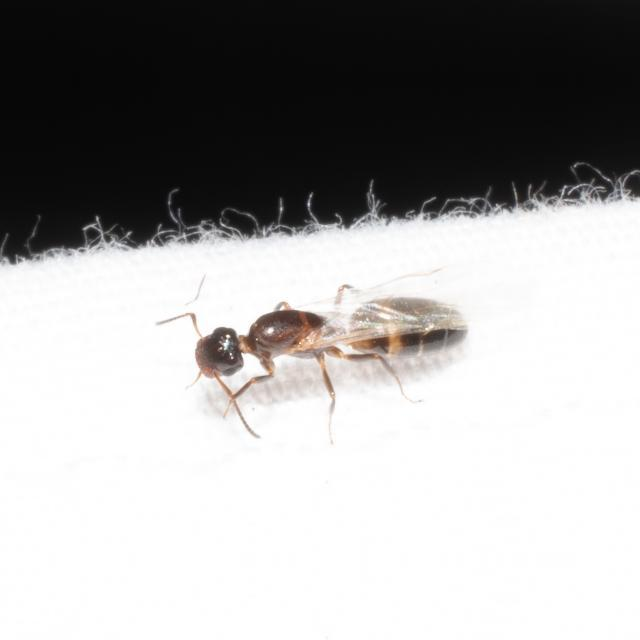Colobopsis: (160, 262, 492, 421)
